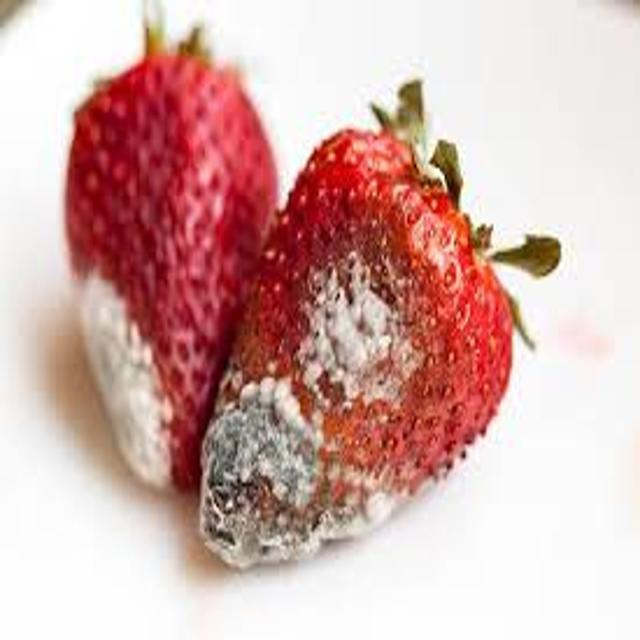Botrytis: (196, 122, 517, 573), (65, 48, 281, 504)
